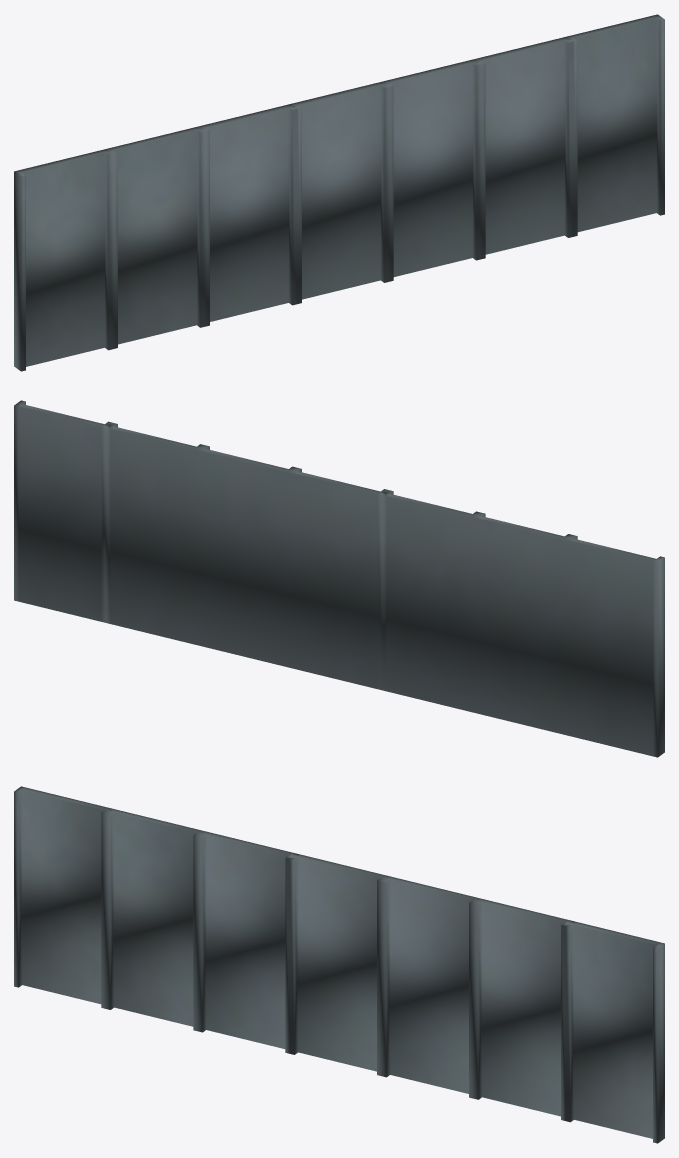
The model's file is ToyFactory Wall.fbx.
The picture shows the model from 3 angles, top to bottom: view 1: azimuth 30°, elevation 25°; view 2: azimuth 150°, elevation 25°; view 3: azimuth 330°, elevation 25°; orthographic projection.
Parts seen in each view (by area): view 1: Cube_012_4; view 2: Cube_012_4; view 3: Cube_012_4.
Part boxes in pixels (left/top/right/bottom): Cube_012_4: left=14, top=14, right=664, bottom=371; Cube_012_4: left=14, top=400, right=664, bottom=757; Cube_012_4: left=14, top=786, right=664, bottom=1143.
Size of the model in its own units: 638 by 184 by 12.31.
1 material, 1 textured.
